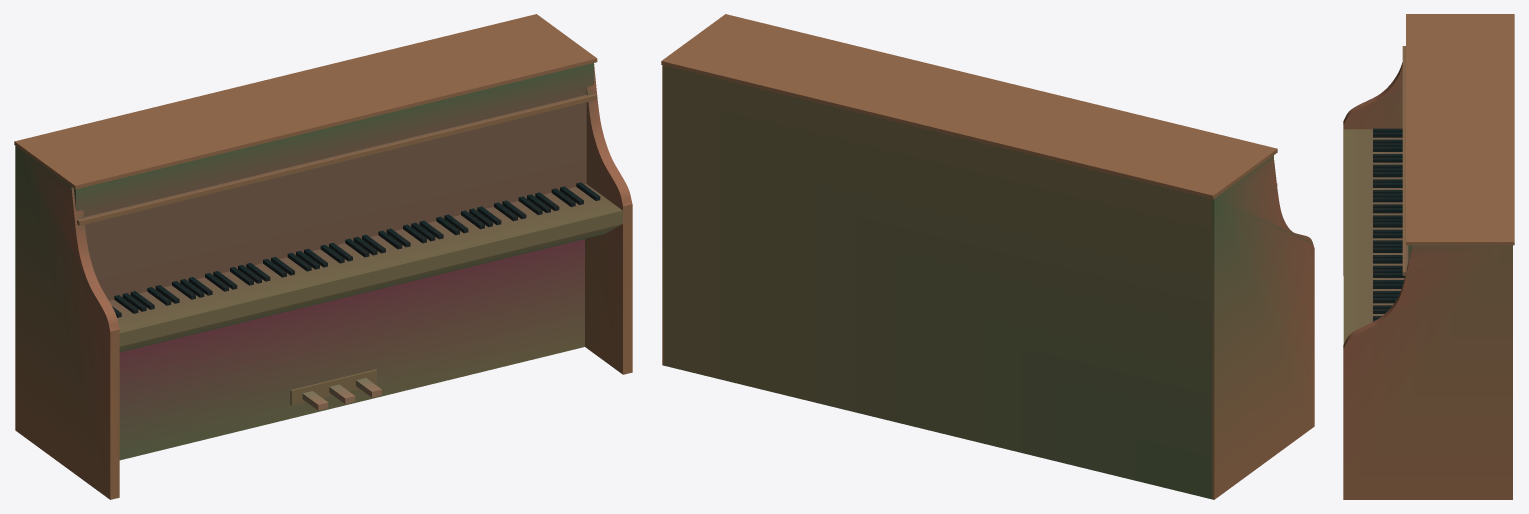
3 views of the same model, side by side, from view 1: azimuth 30°, elevation 25°; view 2: azimuth 150°, elevation 25°; view 3: azimuth 270°, elevation 25° (orthographic). The views are drawn at different scales.
Parts seen in each view (by area): view 1: case, lid, curved_end, curved_end.001, pedal_mount; view 2: case, lid, curved_end, curved_end.001; view 3: curved_end.001, lid, case, curved_end.
Part boxes in pixels (box(x1,y1,x2,y2)): case: box(74, 63, 622, 460); lid: box(14, 14, 597, 189); curved_end: box(15, 146, 119, 499); curved_end.001: box(585, 64, 632, 374); pedal_mount: box(290, 369, 376, 405); case: box(664, 65, 1277, 499); lid: box(661, 14, 1277, 199); curved_end: box(1212, 156, 1314, 499); curved_end.001: box(662, 65, 664, 365); curved_end.001: box(1343, 245, 1512, 499); lid: box(1406, 14, 1514, 245); case: box(1343, 46, 1412, 343); curved_end: box(1343, 62, 1402, 275).
Bounding box in the file's own units: 1.5 × 0.7928 × 0.4775.
